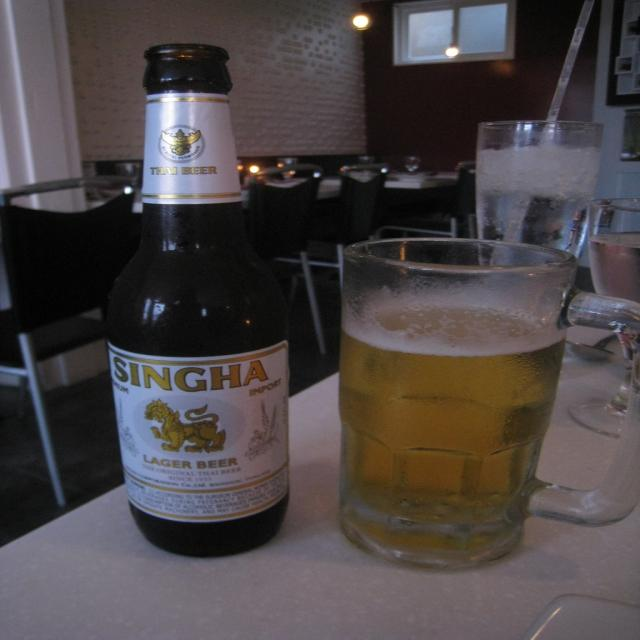singha: (109, 345, 292, 520)
